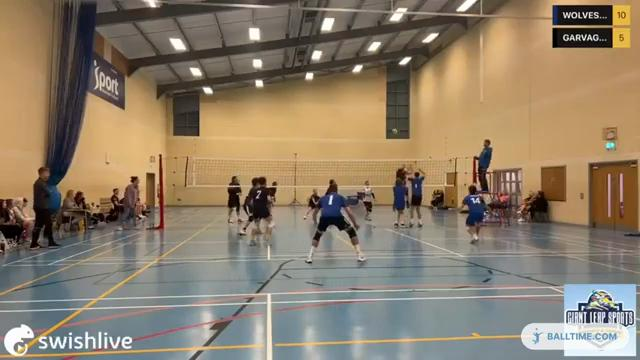Attack: (391, 160, 414, 179)
Block: (406, 168, 427, 230), (389, 175, 407, 228)
Player: (305, 182, 365, 263), (250, 177, 272, 244), (462, 185, 484, 243), (238, 177, 257, 234), (227, 176, 242, 223), (304, 189, 319, 223), (362, 180, 374, 220), (269, 181, 277, 203), (325, 179, 335, 195)
ball: (389, 128, 400, 135)
